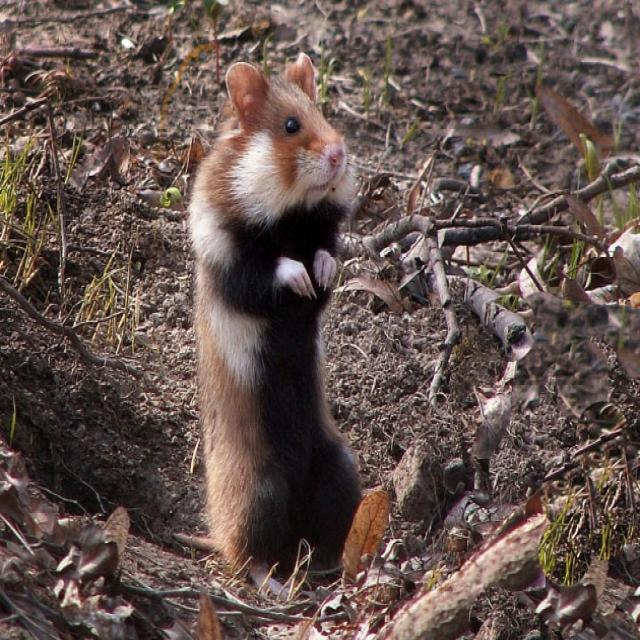hamster: (190, 54, 384, 575)
